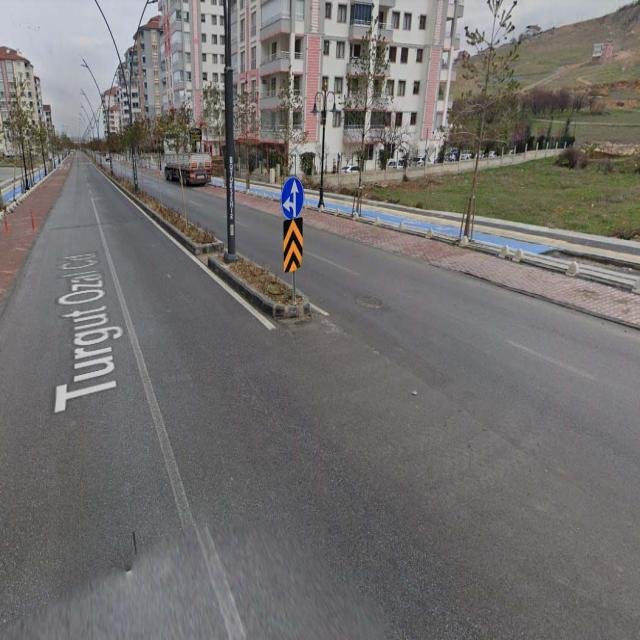ilerisol: (281, 177, 304, 218)
